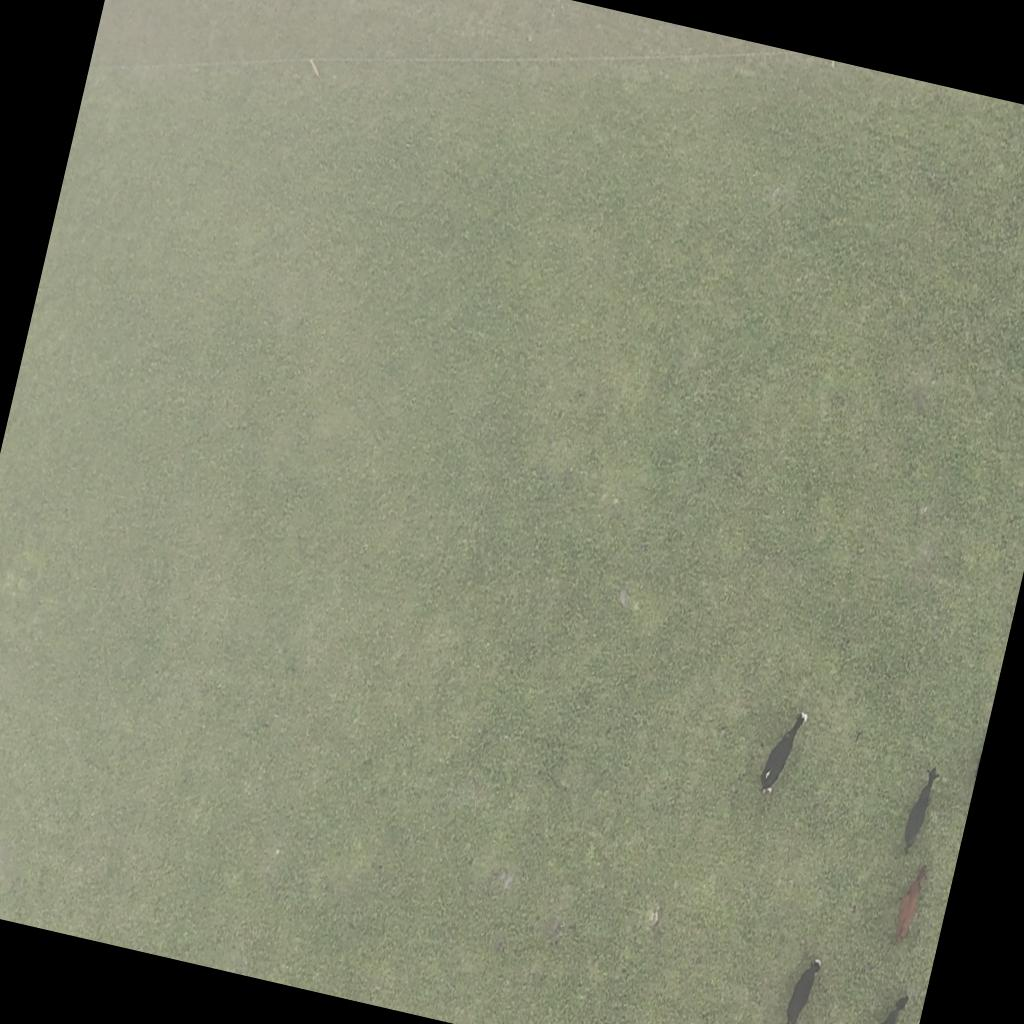cow: (756, 703, 814, 806), (898, 766, 944, 864), (780, 948, 831, 1024), (890, 860, 932, 952), (862, 983, 914, 1024)
